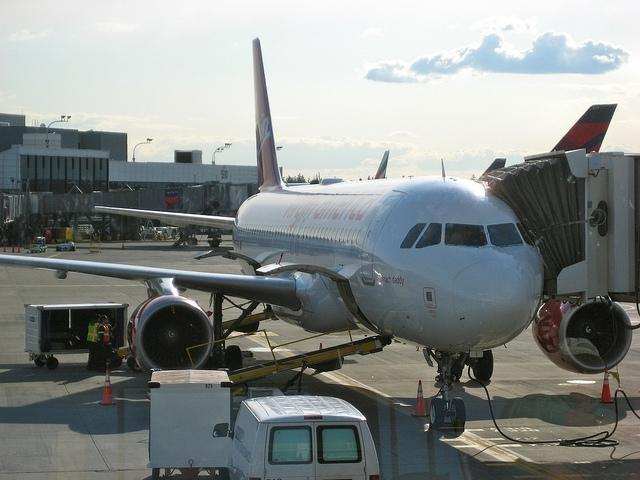truck: (231, 393, 381, 480), (150, 368, 233, 480)
